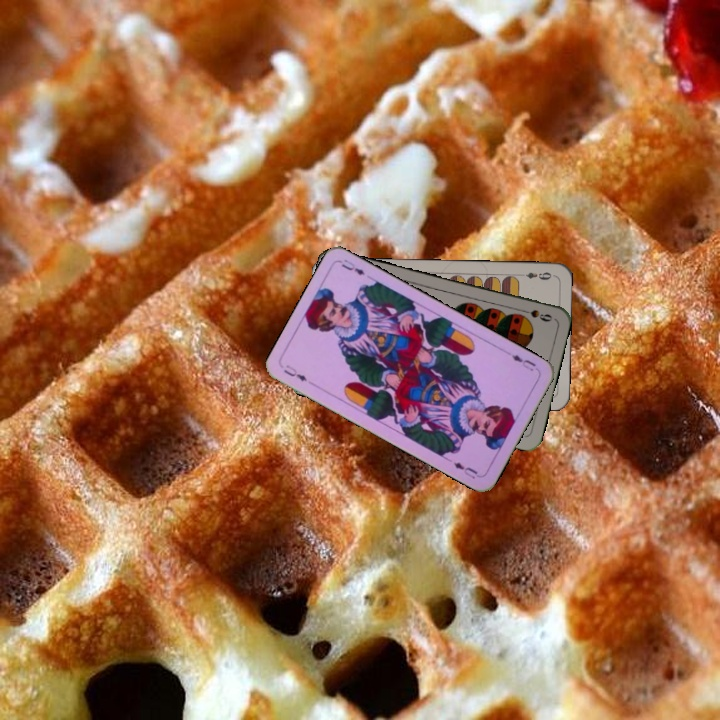E9: (515, 268, 556, 283)
EU: (508, 350, 538, 374), (280, 361, 310, 384)
S9: (515, 305, 555, 324)
